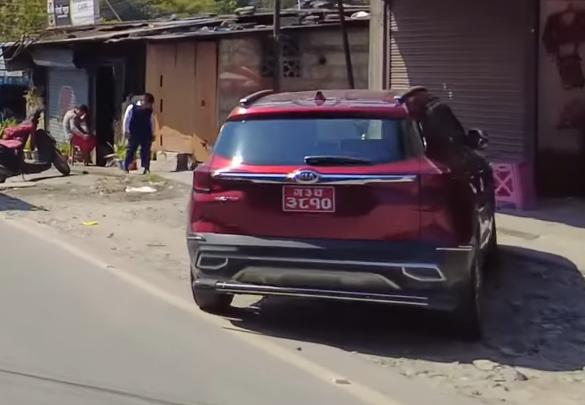car: (188, 80, 503, 335)
scooter: (0, 111, 73, 185)
